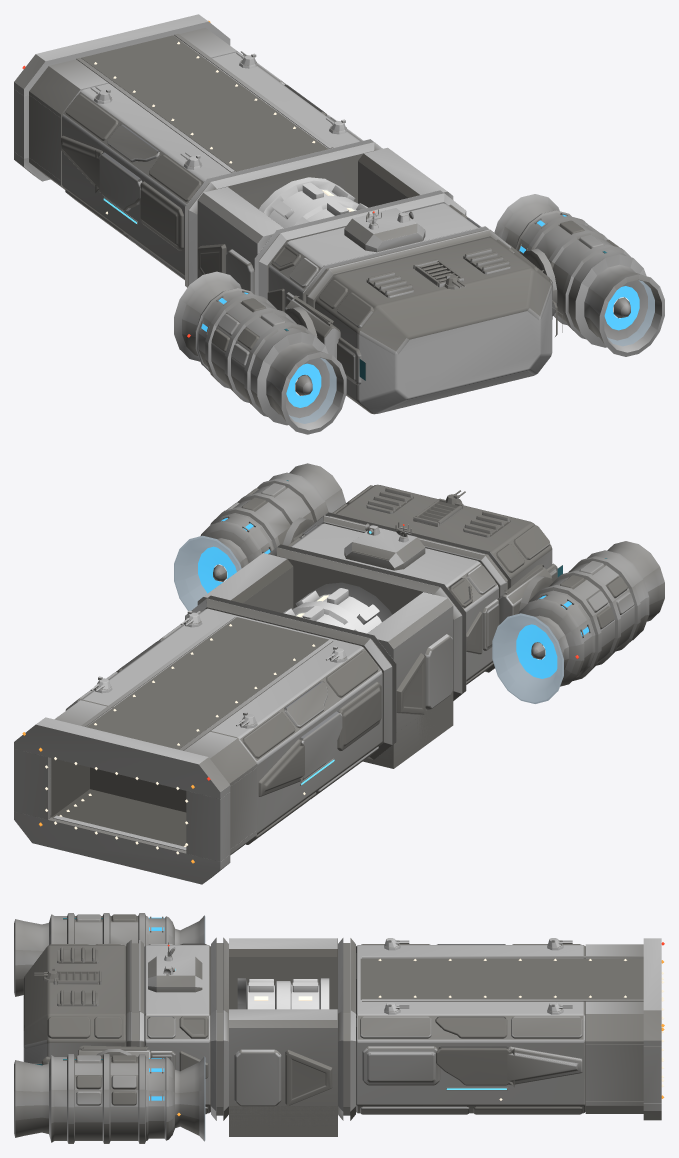
File: troyden_carrier.glb
3 renders of one model, top to bottom at view 1: azimuth 30°, elevation 25°; view 2: azimuth 150°, elevation 25°; view 3: azimuth 270°, elevation 25°, orthographic. The views are drawn at different scales.
Visible parts, largest first — view 1: hull, engines, reactor; view 2: hull, engines, reactor; view 3: hull, engines, reactor.
Boxes of the visible parts, bbox=[...] form: hull: bbox=[14, 14, 562, 414]; engines: bbox=[174, 194, 664, 434]; reactor: bbox=[259, 177, 367, 228]; hull: bbox=[14, 484, 562, 884]; engines: bbox=[174, 463, 664, 703]; reactor: bbox=[283, 582, 392, 633]; hull: bbox=[23, 937, 664, 1136]; engines: bbox=[14, 913, 205, 1143]; reactor: bbox=[237, 978, 329, 1009].
Size of the model in its own units: 60.79 by 23.21 by 96.
11 materials, 4 textured.
